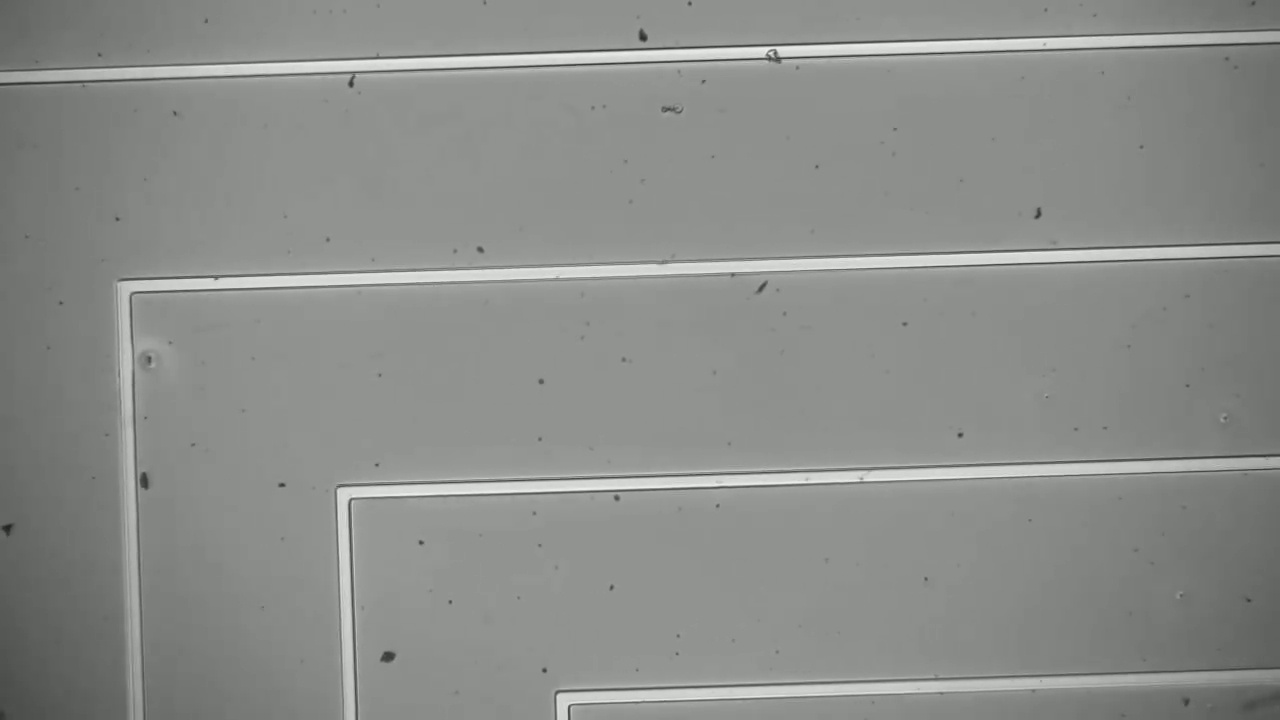stains_enbedded: (752, 36, 791, 74)
